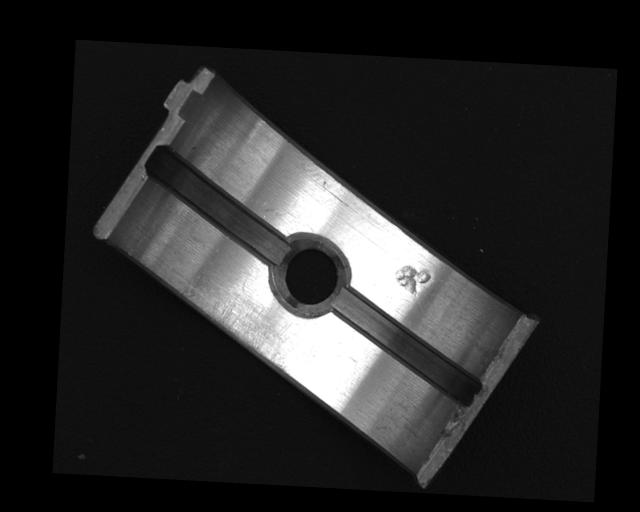bruise: (392, 263, 432, 299)
gap: (328, 286, 484, 407), (139, 147, 294, 266)
hole: (269, 232, 353, 318)
scratch: (169, 274, 296, 376)
